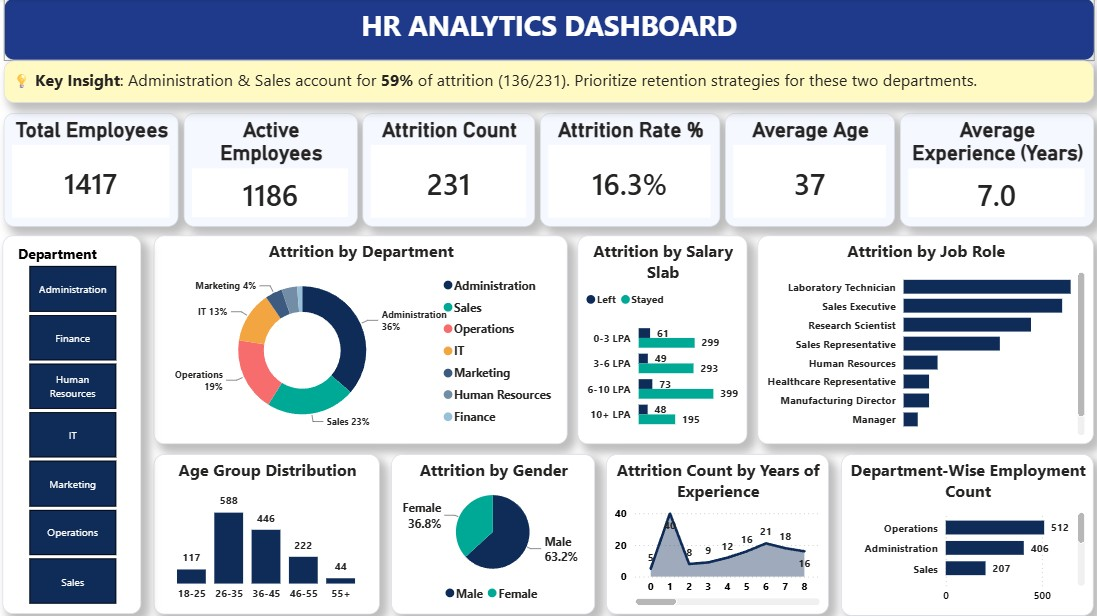

This screenshot's page, from the dashboard's own definition file:
{"tool":"powerbi","page":{"name":"Page 1","canvas":[1280,720],"ordinal":0},"visuals":[{"type":"textbox","box":[10.1,0,1259.5,72.1],"z":0},{"type":"cardVisual","title":"Total Employees","fields":{"Data":["CountNonNull(HR_Analytics-4.EmpID)"]},"box":[10.1,132.7,202,131.3],"z":1000},{"type":"cardVisual","title":"Active Employees","fields":{"Data":["HR_Analytics-4.Active Employees"]},"box":[217.9,132.7,200.5,131.3],"z":2000},{"type":"cardVisual","title":"Attrition Count","fields":{"Data":["Sum(HR_Analytics-4.AttritionCount)"]},"box":[424.2,132.7,199.1,131.3],"z":3000},{"type":"cardVisual","title":"Attrition Rate %","fields":{"Data":["HR_Analytics-4.Attrition Rate %"]},"box":[629,132.7,207.8,131.3],"z":4000},{"type":"cardVisual","title":"Average Age","fields":{"Data":["Avg(HR_Analytics-4.Age)"]},"box":[842.6,132.7,196.2,131.3],"z":5000},{"type":"cardVisual","title":"Average Experience (Years)","fields":{"Data":["Avg(HR_Analytics-4.YearsatCompany)"]},"box":[1044.6,132.7,223.6,131.3],"z":6000},{"type":"donutChart","title":"Attrition by Department","fields":{"Category":["HR_Analytics-4.Department"],"Y":["Sum(HR_Analytics-4.AttritionCount)"]},"box":[183.2,274.1,477.6,240.9],"z":7000},{"type":"clusteredBarChart","title":"Attrition by Salary Slab","fields":{"Category":["SalarySlabSort.SalarySlab"],"Series":["HR_Analytics-4.Attrition"],"Y":["CountNonNull(HR_Analytics-4.EmpID)"]},"box":[672.3,274.1,196.2,240.9],"z":8000},{"type":"clusteredBarChart","title":"Attrition by Job Role","fields":{"Category":["HR_Analytics-4.JobRole"],"Y":["Sum(HR_Analytics-4.AttritionCount)"]},"box":[880.1,274.1,388.1,240.9],"z":9000},{"type":"columnChart","title":"Age Group Distribution","fields":{"Category":["HR_Analytics-4.AgeGroup"],"Y":["Sum(HR_Analytics-4.EmployeeCount)"]},"box":[183.2,526.6,261.1,184.7],"z":10000},{"type":"pieChart","title":"Attrition by Gender","fields":{"Category":["HR_Analytics-4.Gender"],"Y":["Sum(HR_Analytics-4.AttritionCount)"]},"box":[457.4,526.6,235.2,184.7],"z":11000},{"type":"areaChart","title":"Attrition Count by Years of Experience","fields":{"Category":["HR_Analytics-4.TotalExperience(Years)"],"Y":["Sum(HR_Analytics-4.AttritionCount)"]},"box":[705.5,526.6,256.8,184.7],"z":12000},{"type":"clusteredBarChart","title":"Department-Wise Employment Count","fields":{"Category":["HR_Analytics-4.Department"],"Y":["CountNonNull(HR_Analytics-4.EmpID)"]},"box":[976.7,526.6,291.4,186.1],"z":13000},{"type":"slicer","fields":{"Values":["HR_Analytics-4.Department"]},"box":[8.7,274.1,160.1,437.2],"z":14000},{"type":"textbox","box":[10.1,72.1,1258.1,49.1],"z":15000}]}

Visuals, with their boxes in screenshot pixels (x1, y1, x2, y2), scaled from the page's 1280x720 canvas onto the 1097x616 screenshot:
textbox: x1=9, y1=0, x2=1088, y2=62
"Total Employees" cardVisual: x1=9, y1=114, x2=182, y2=226
"Active Employees" cardVisual: x1=187, y1=114, x2=359, y2=226
"Attrition Count" cardVisual: x1=364, y1=114, x2=534, y2=226
"Attrition Rate %" cardVisual: x1=539, y1=114, x2=717, y2=226
"Average Age" cardVisual: x1=722, y1=114, x2=890, y2=226
"Average Experience (Years)" cardVisual: x1=895, y1=114, x2=1087, y2=226
"Attrition by Department" donutChart: x1=157, y1=235, x2=566, y2=441
"Attrition by Salary Slab" clusteredBarChart: x1=576, y1=235, x2=744, y2=441
"Attrition by Job Role" clusteredBarChart: x1=754, y1=235, x2=1087, y2=441
"Age Group Distribution" columnChart: x1=157, y1=451, x2=381, y2=609
"Attrition by Gender" pieChart: x1=392, y1=451, x2=594, y2=609
"Attrition Count by Years of Experience" areaChart: x1=605, y1=451, x2=825, y2=609
"Department-Wise Employment Count" clusteredBarChart: x1=837, y1=451, x2=1087, y2=610
slicer - HR_Analytics-4.Department: x1=7, y1=235, x2=145, y2=609
textbox: x1=9, y1=62, x2=1087, y2=104
